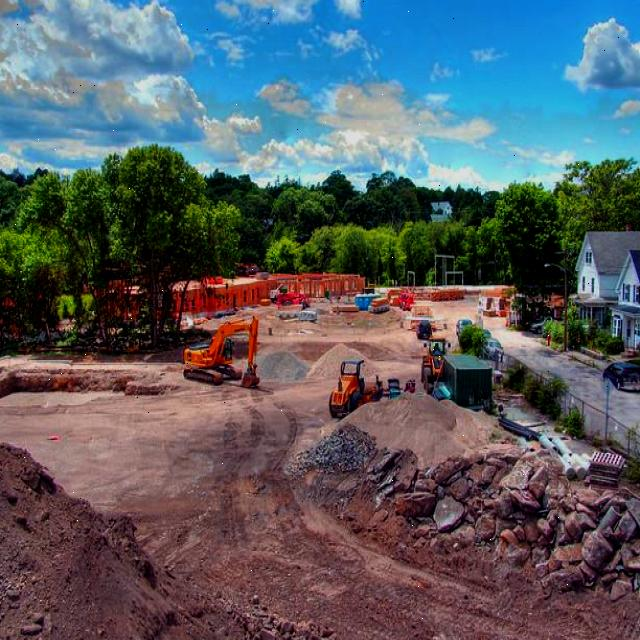Excavator: (185, 314, 260, 389)
